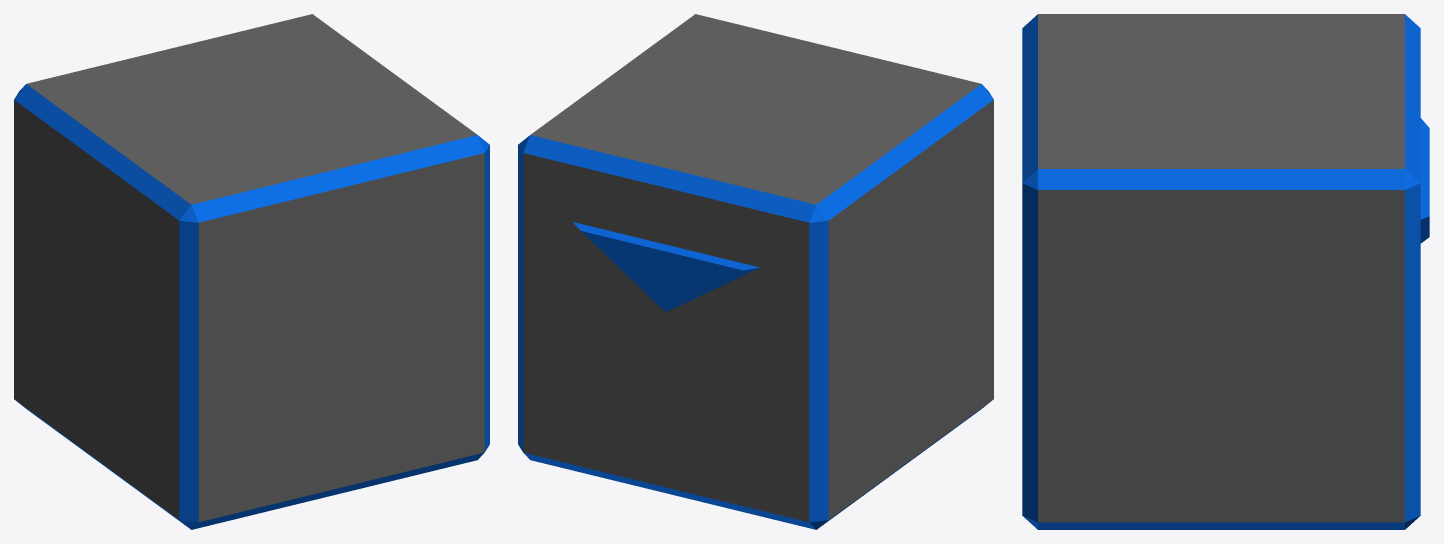
The model's file is directional_cube.fbx.
The picture shows the model from 3 angles, left to right: view 1: azimuth 30°, elevation 25°; view 2: azimuth 150°, elevation 25°; view 3: azimuth 270°, elevation 25°; orthographic projection. The views are drawn at different scales.
Visible parts, largest first — view 1: Cube; view 2: Cube; view 3: Cube.
Boxes of the visible parts, x1,y1,x2,y2 form: Cube: [14, 14, 489, 529]; Cube: [518, 14, 993, 529]; Cube: [1022, 14, 1429, 529].
Bounding box in the file's own units: 30 × 30 × 30.68.
